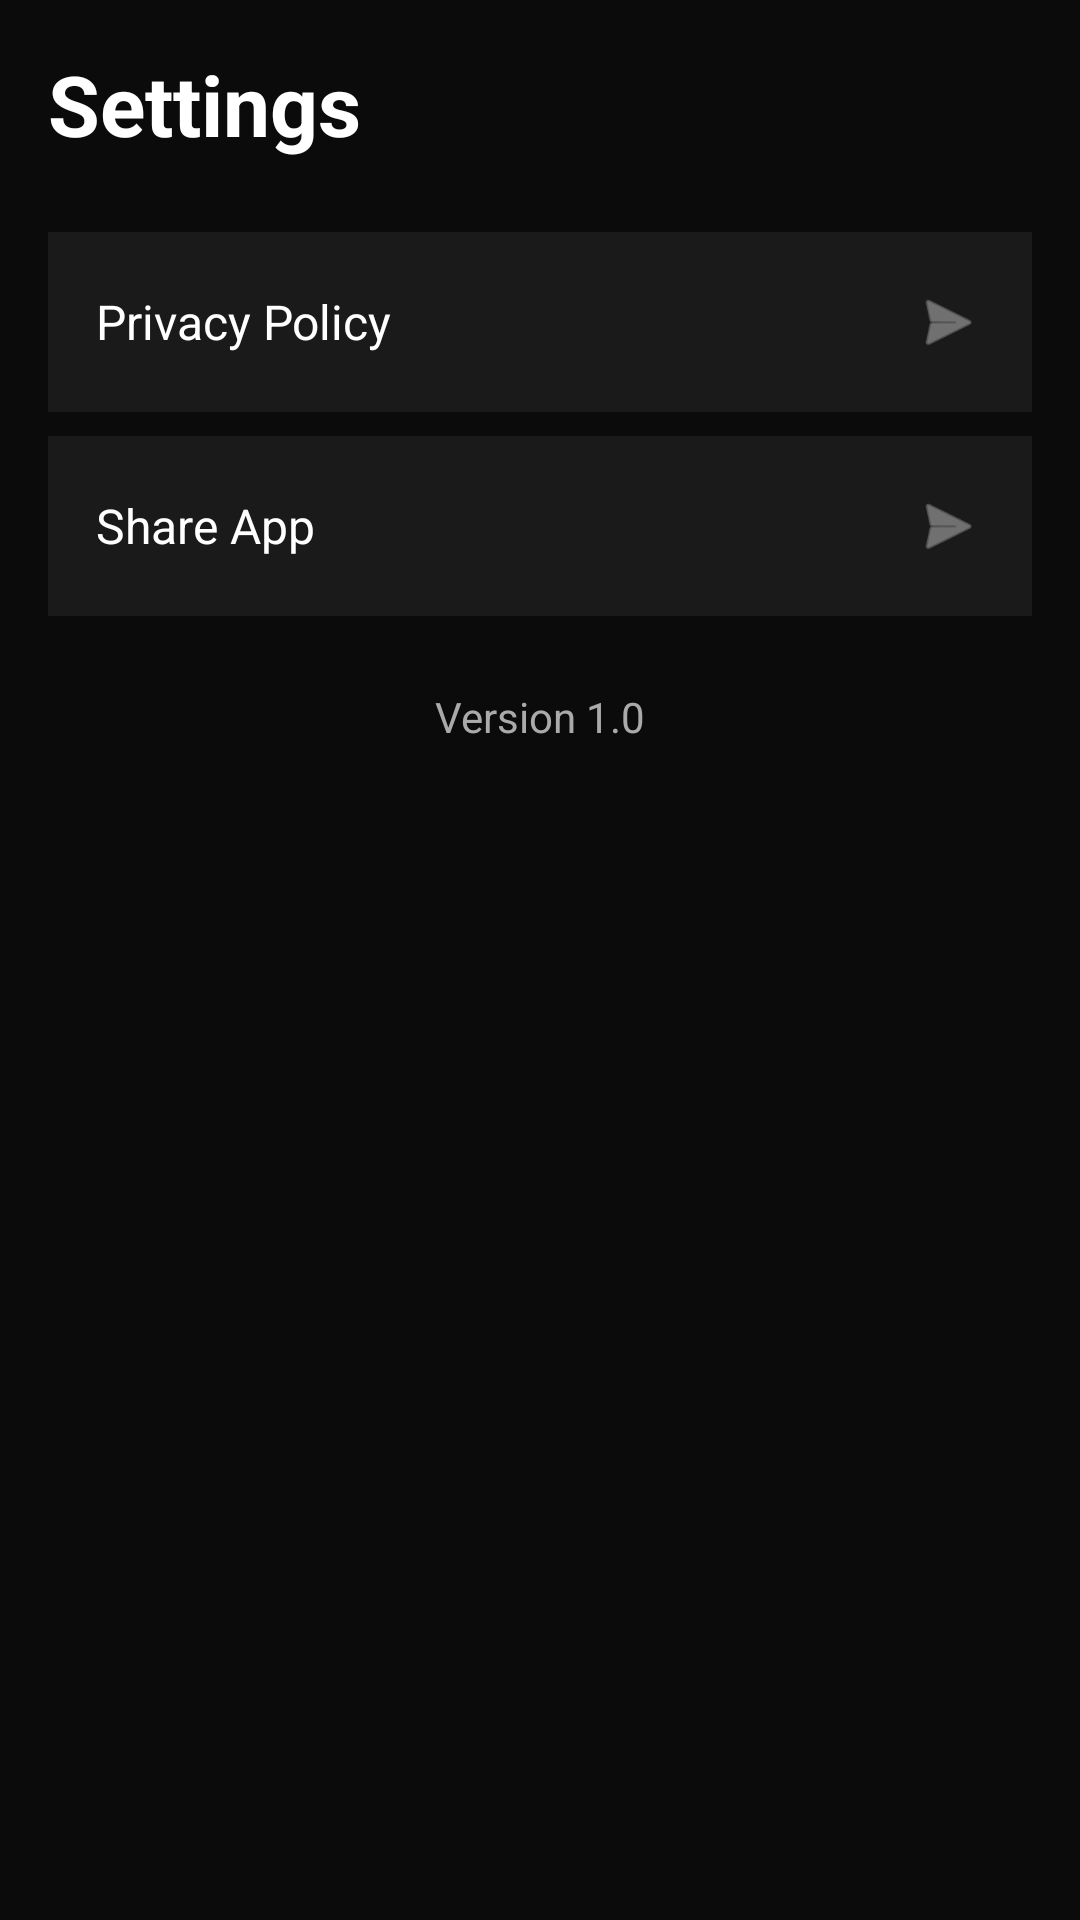

Point at icon controls on the screen. Image size 1080 × 1920, points as point (x, y).
send: point (948, 322), point (948, 526)
